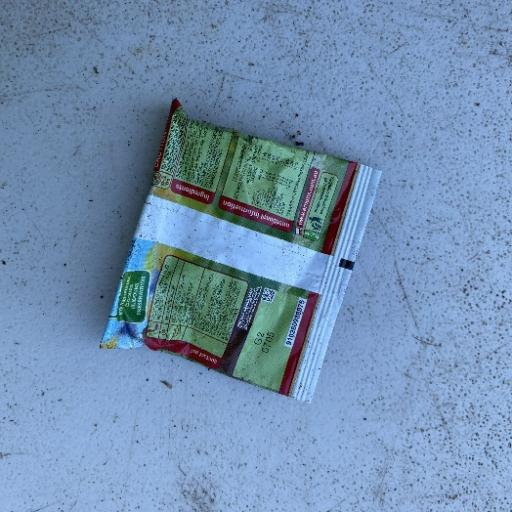Plastic: (97, 96, 382, 404)
